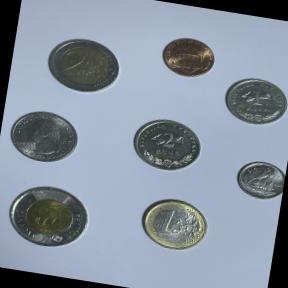1 Euro: (133, 192, 214, 256)
2 Euro: (38, 30, 128, 101)
Canda-10cent-: (228, 152, 287, 208)
Canda-2Dollar-: (0, 176, 99, 257)
Croatia-2Kune-: (125, 110, 210, 180)
US-1cent-: (154, 31, 220, 84)
US-25cent-: (2, 102, 84, 170)
